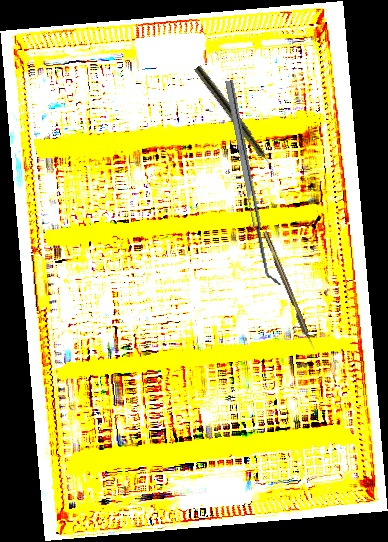Handpiece: (192, 64, 281, 178)
Hook Surgical: (262, 230, 316, 352)
Spatula Surgical: (225, 78, 281, 288)
